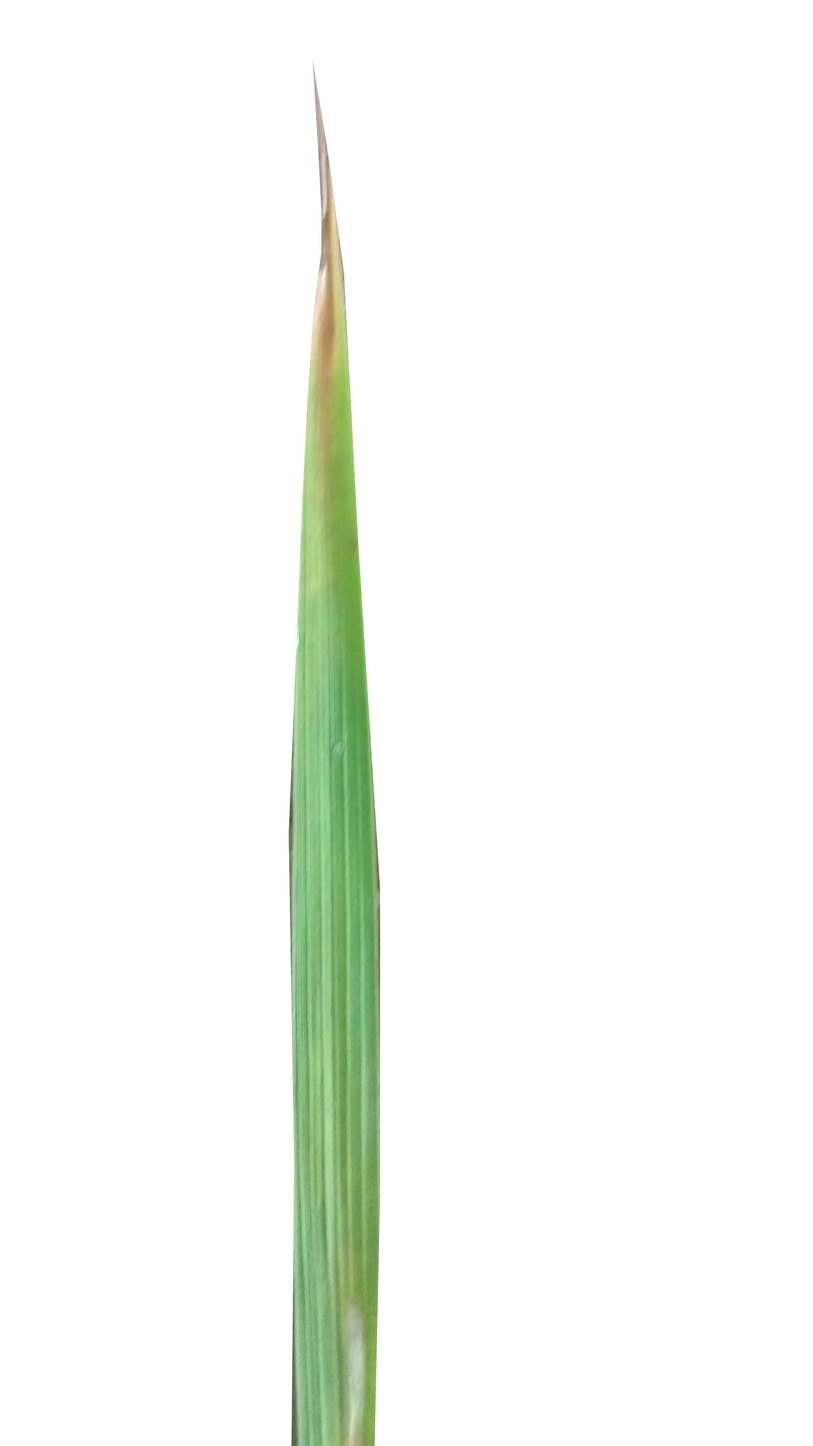Tungro: (295, 184, 360, 629)
